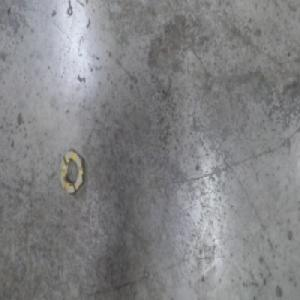Nut: (57, 148, 86, 196)
